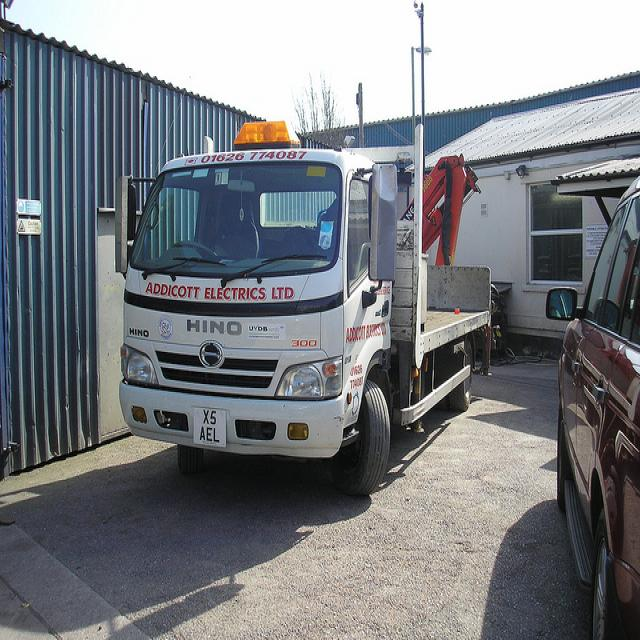Vehicle: (114, 121, 493, 500), (547, 178, 640, 638)
